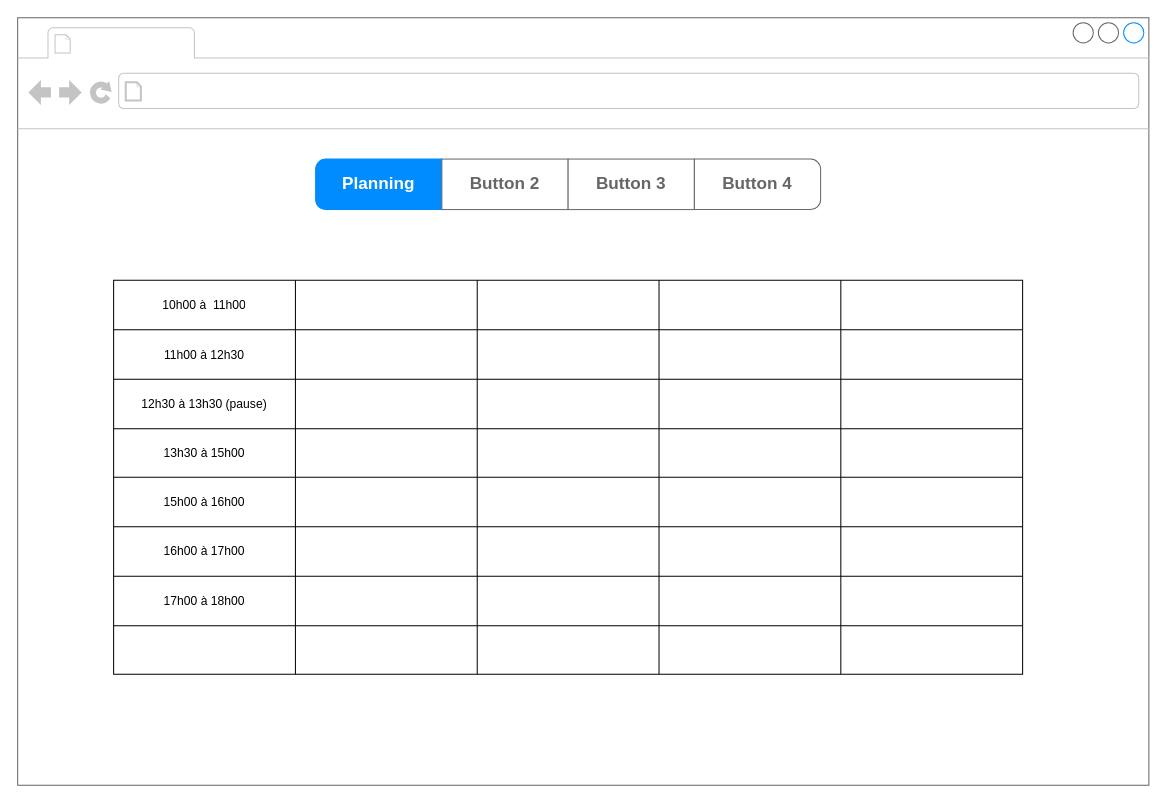
This 1167x803 diagram has some shape labels left out. The centre of each missing label's shape, as x and y in pixels:
"https://www.draw.io" belongs at pixel 274 91.
"Page 1" belongs at pixel 133 42.
